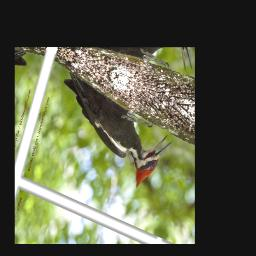Woodpecker: (44, 70, 178, 198)
